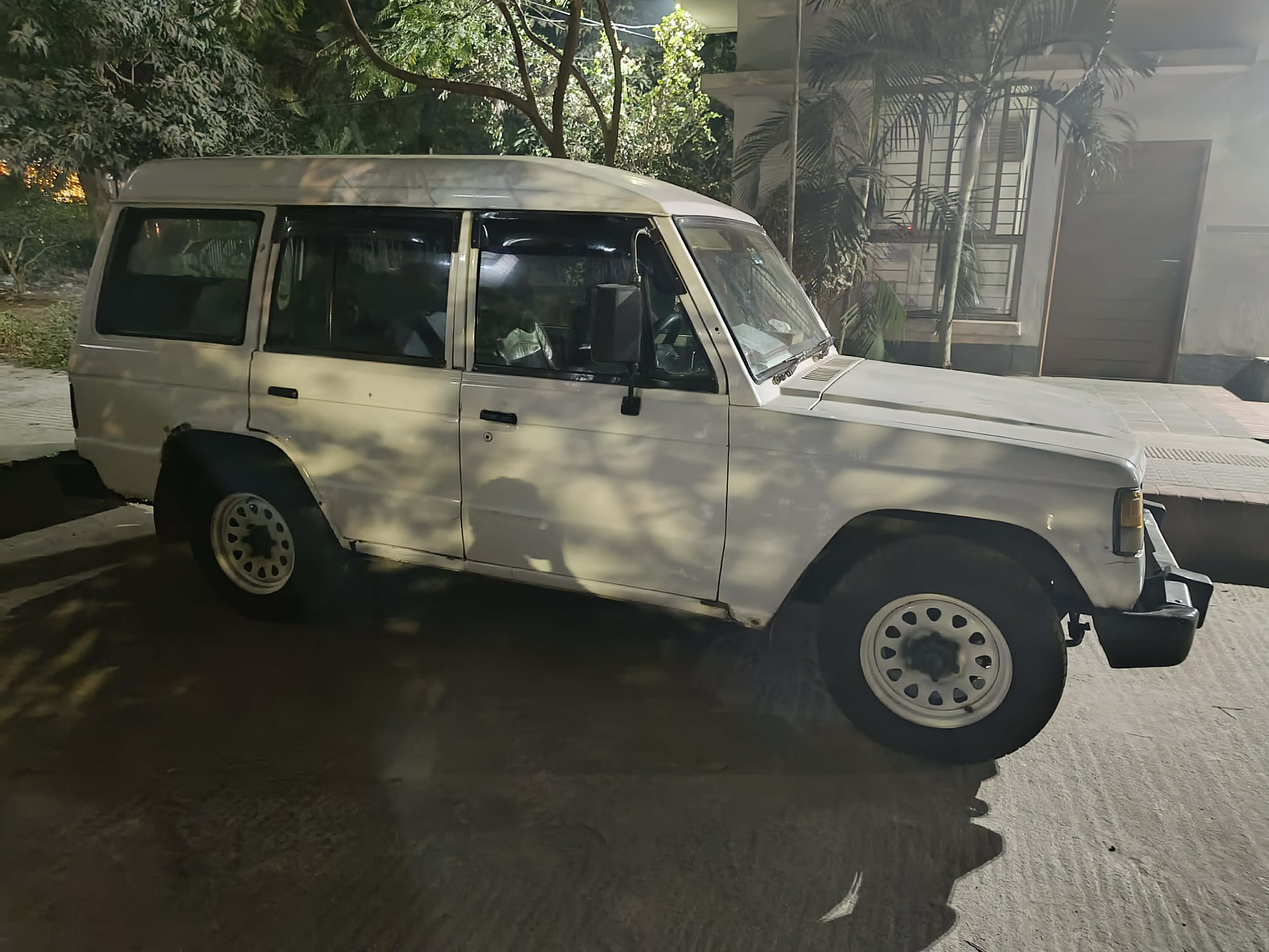private car: (47, 129, 1233, 786)
